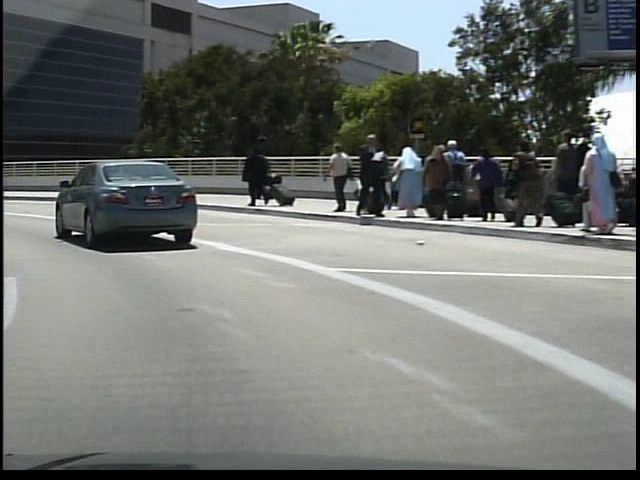person: (350, 131, 384, 221), (321, 140, 351, 217), (237, 144, 268, 208), (251, 153, 270, 202)
